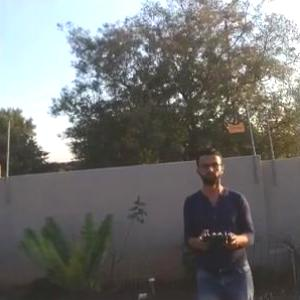follow: (182, 141, 261, 299)
